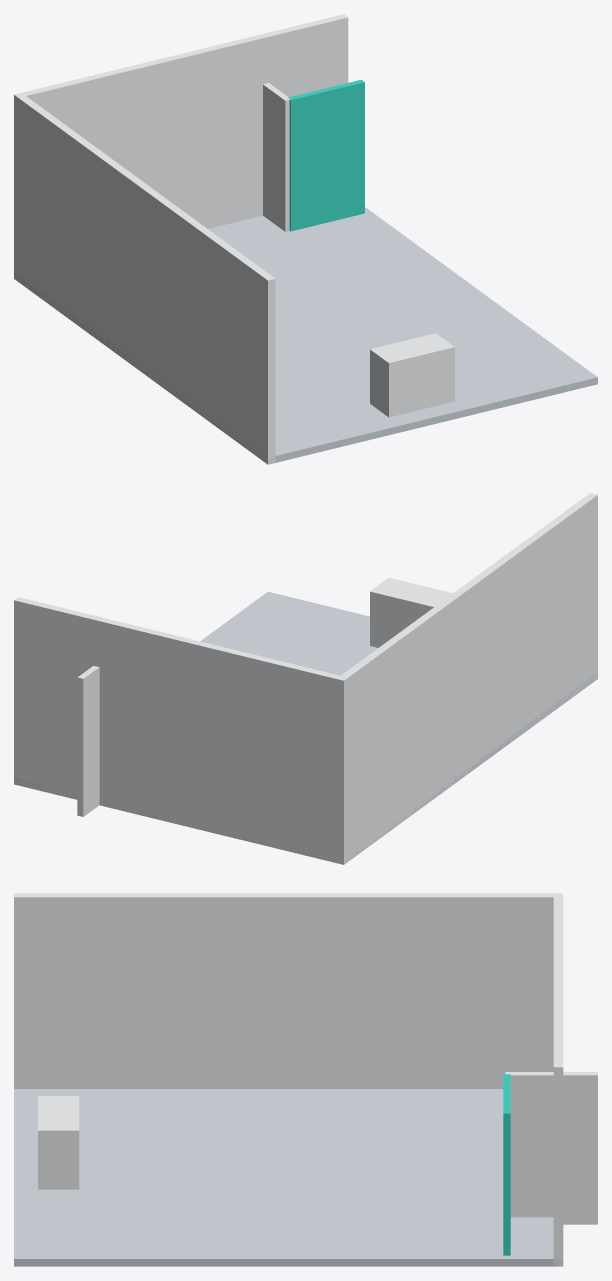
3 renders of one model, top to bottom at view 1: azimuth 30°, elevation 25°; view 2: azimuth 150°, elevation 25°; view 3: azimuth 270°, elevation 25°, orthographic. The views are drawn at different scales.
Visible parts, largest first — view 1: Exhibition Booth Concept; view 2: Exhibition Booth Concept; view 3: Exhibition Booth Concept.
Boxes of the visible parts, bbox=[...] form: Exhibition Booth Concept: bbox=[14, 14, 597, 464]; Exhibition Booth Concept: bbox=[14, 493, 597, 864]; Exhibition Booth Concept: bbox=[14, 893, 597, 1266].
Bounding box in the file's own units: 6 × 3.2 × 8.51.
